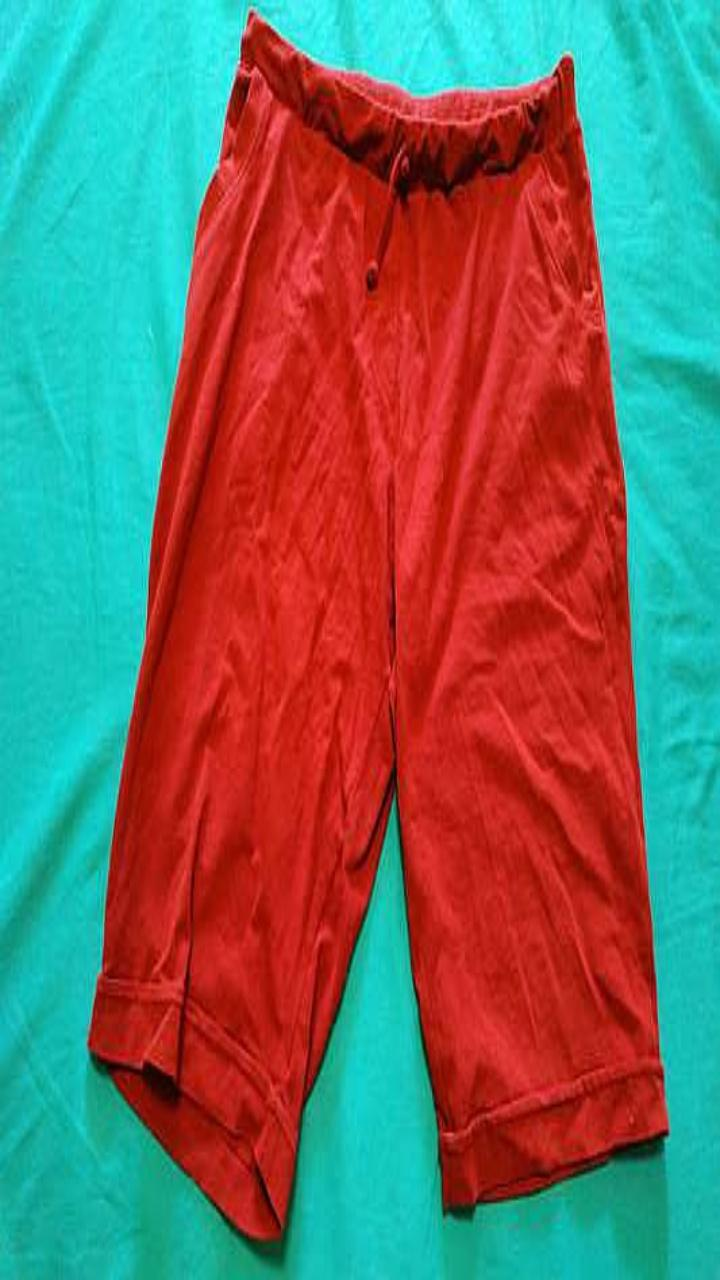Shorts: (89, 10, 667, 1237)
